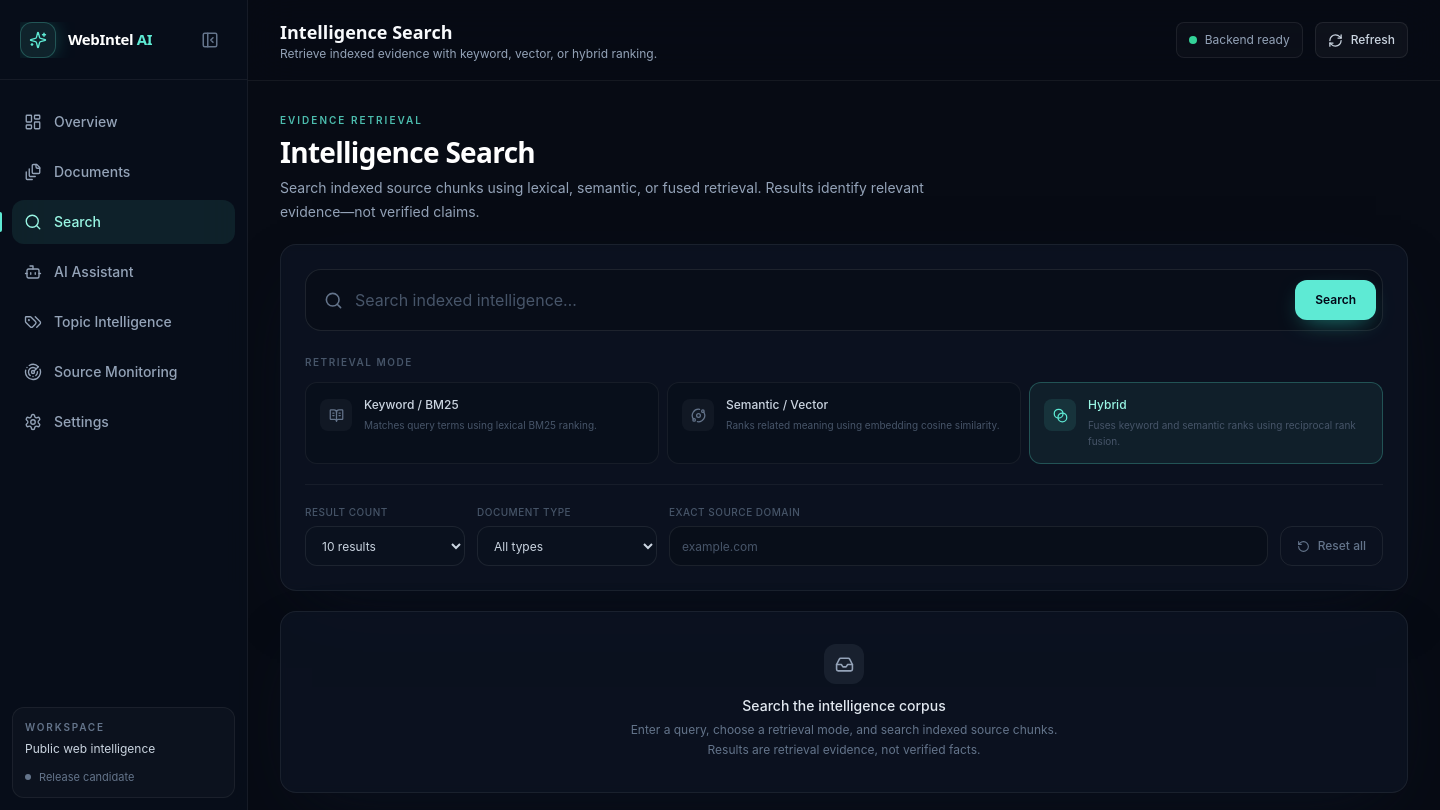
Test case: SearchPage › shows a useful pre-search state and validates an empty query
The width and height of the screenshot is (1440, 810).
Check: the text "Search the intelligence corpus" is shown, box x1=742 y1=696 x2=946 y2=716
Click the button "Search". click: (1336, 300)
box: x1=1295 y1=280 x2=1376 y2=320
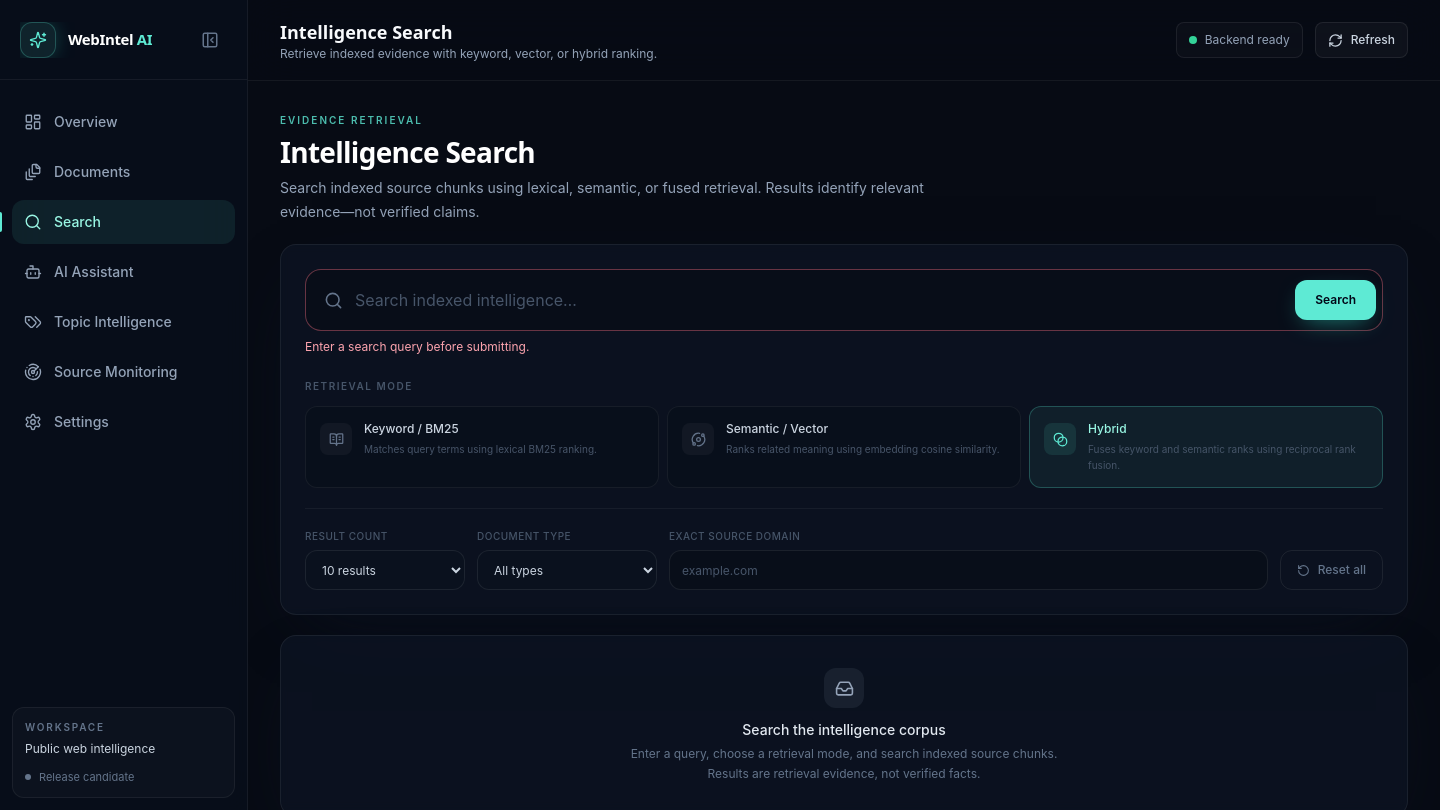
Check: the message "Enter a search query before submitting." is shown, box x1=305 y1=339 x2=529 y2=354
